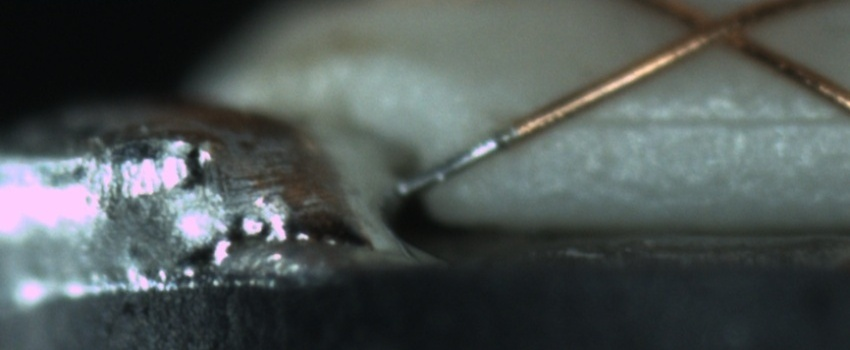CL: (663, 0, 766, 62)
DL: (581, 91, 849, 153)
TS: (395, 124, 521, 201)
TTCW: (393, 117, 540, 196)
